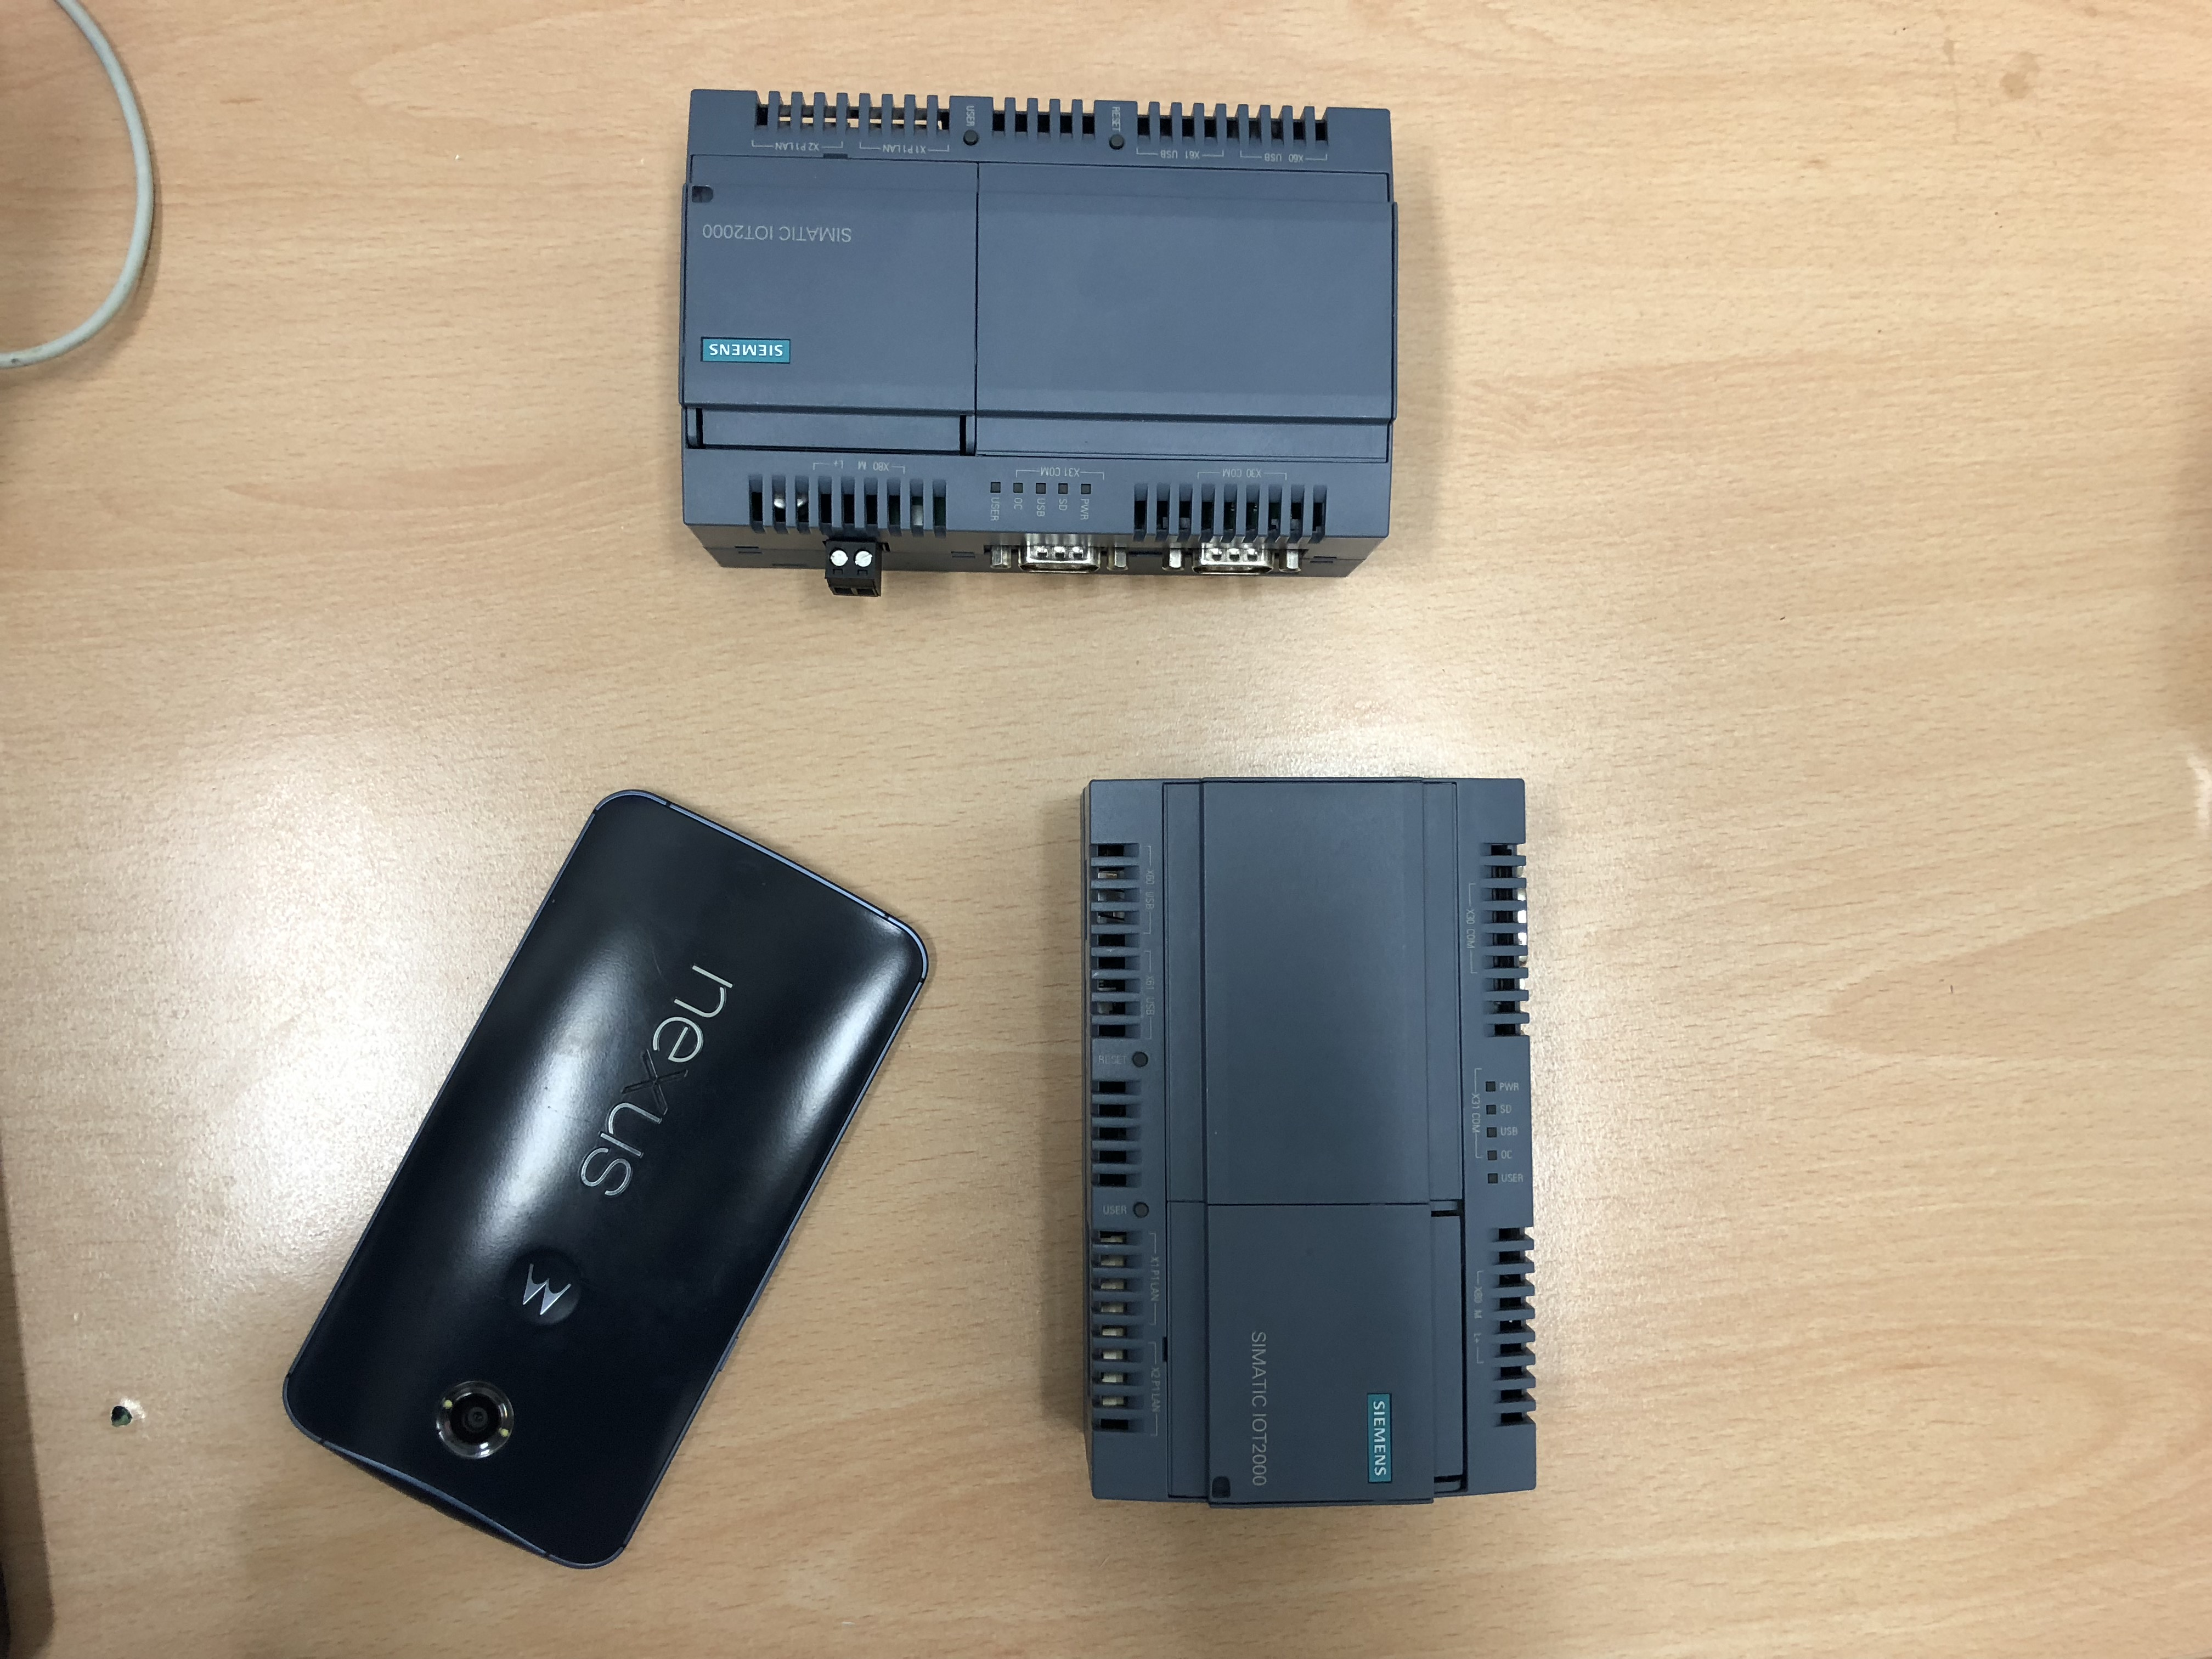device: (678, 89, 1399, 598), (1080, 777, 1538, 1509)
